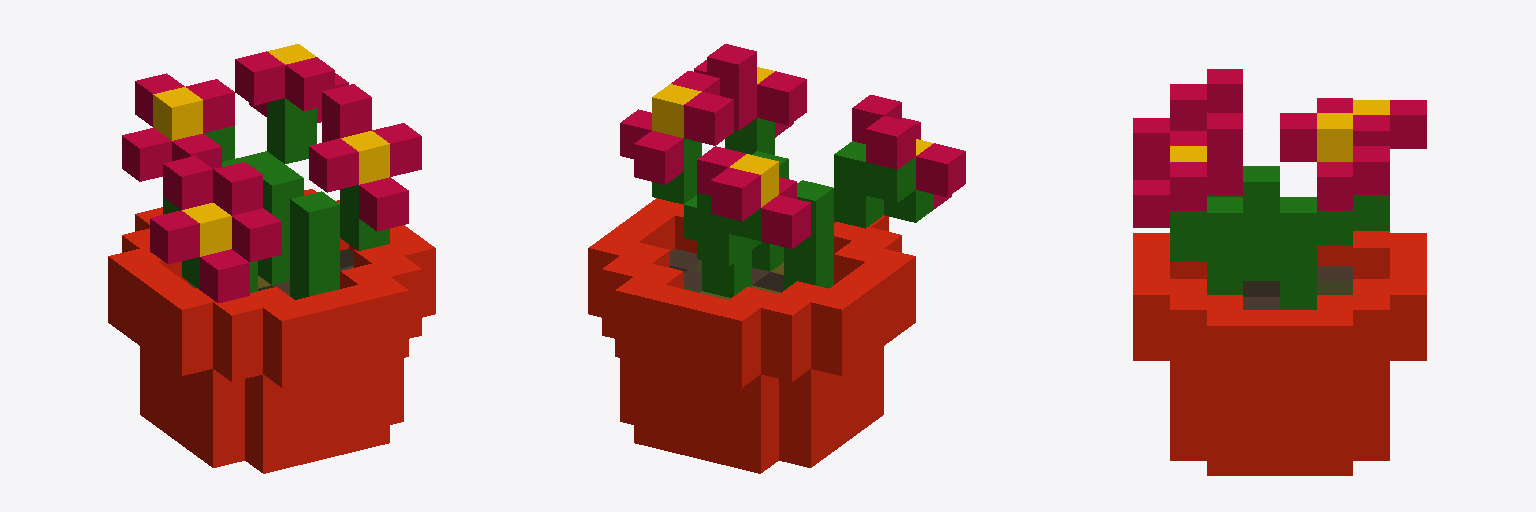
3 renders of one model, left to right at view 1: azimuth 30°, elevation 25°; view 2: azimuth 150°, elevation 25°; view 3: azimuth 270°, elevation 25°, orthographic.
Visible parts, largest first — view 1: object 1; view 2: object 1; view 3: object 1.
Boxes of the visible parts, <box> form: object 1: <box>108,44,435,473</box>; object 1: <box>588,44,965,473</box>; object 1: <box>1133,69,1426,475</box>.
Bounding box in the file's own units: 0.9 × 1 × 0.8.
1 materials, 1 textured.